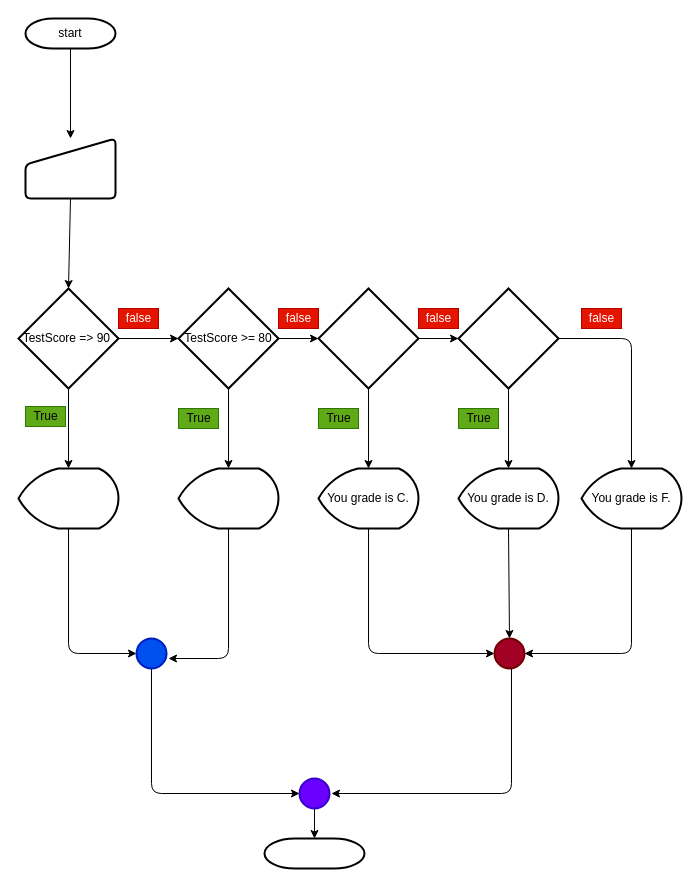
Image size: 699x886. Some labels were removed from this diagram. Here are the shapes that lost their labels. From the top down, the box of each, then its label:
(24, 137, 116, 199): TestScore
(317, 287, 419, 389): TestScore >= 70
(457, 287, 559, 389): TestScore >= 60
(17, 467, 119, 529): You grade is A.
(177, 467, 279, 529): You grade is B.
(263, 837, 365, 869): End
